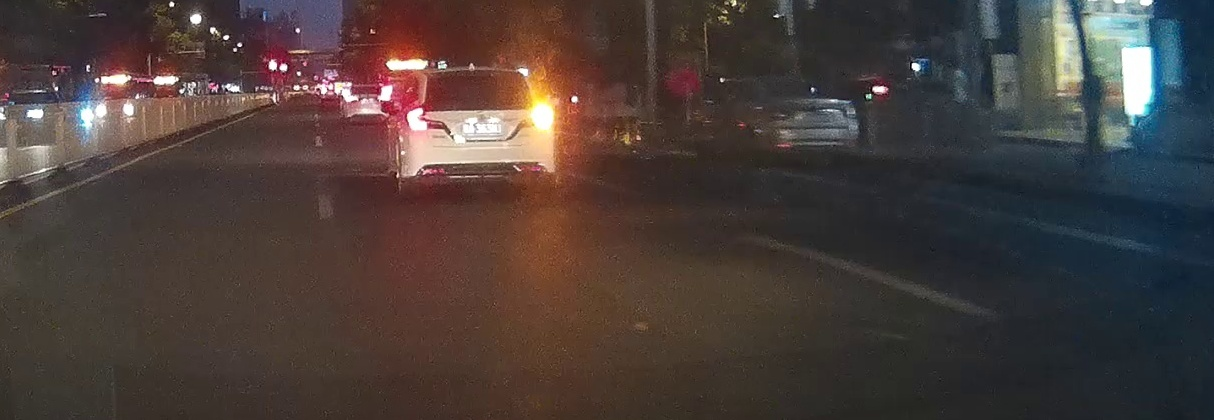L_light: (406, 107, 445, 130)
R_light: (520, 103, 554, 129)
T_light: (464, 70, 483, 77)
night-right: (406, 67, 555, 195)
